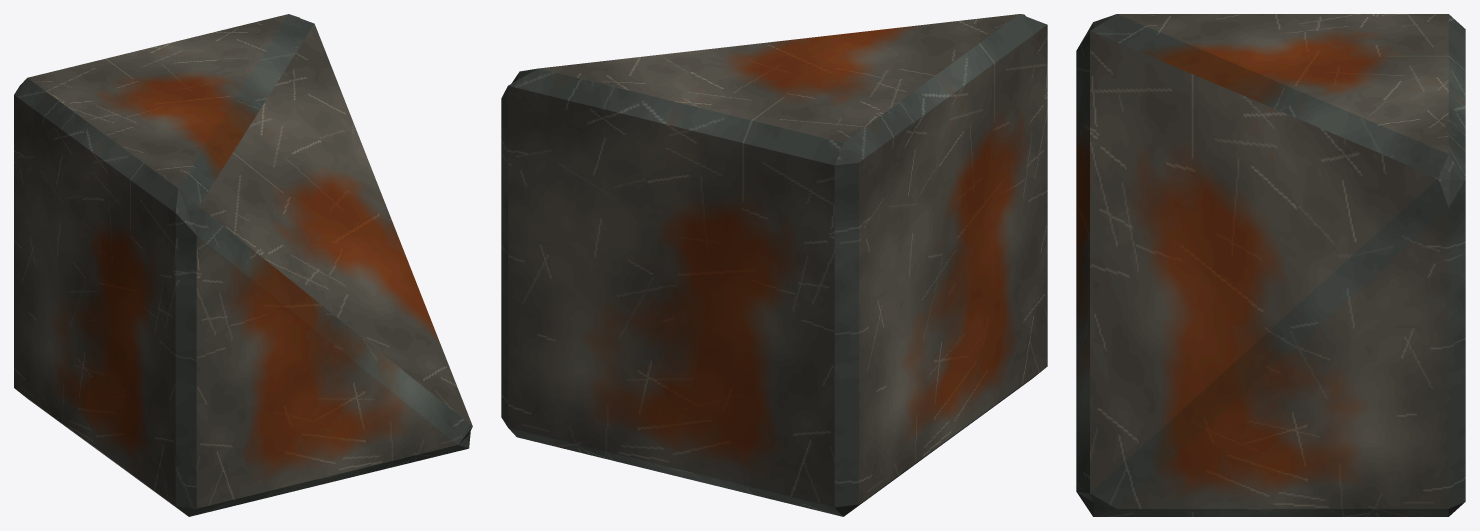
Rendered from R4B_InnerCorner_LOD1.glb.
The picture shows the model from 3 angles, left to right: view 1: azimuth 30°, elevation 25°; view 2: azimuth 150°, elevation 25°; view 3: azimuth 270°, elevation 25°; orthographic projection. The views are drawn at different scales.
Parts seen in each view (by area): view 1: R4B_InnerCorner_LOD1; view 2: R4B_InnerCorner_LOD1; view 3: R4B_InnerCorner_LOD1.
Boxes of the visible parts, box(x1,y1,x2,y2) form: R4B_InnerCorner_LOD1: box(14, 14, 472, 516); R4B_InnerCorner_LOD1: box(501, 14, 1047, 516); R4B_InnerCorner_LOD1: box(1076, 14, 1465, 516).
Size of the model in its own units: 0.52 by 0.52 by 0.52.
2 materials, 2 textured.
